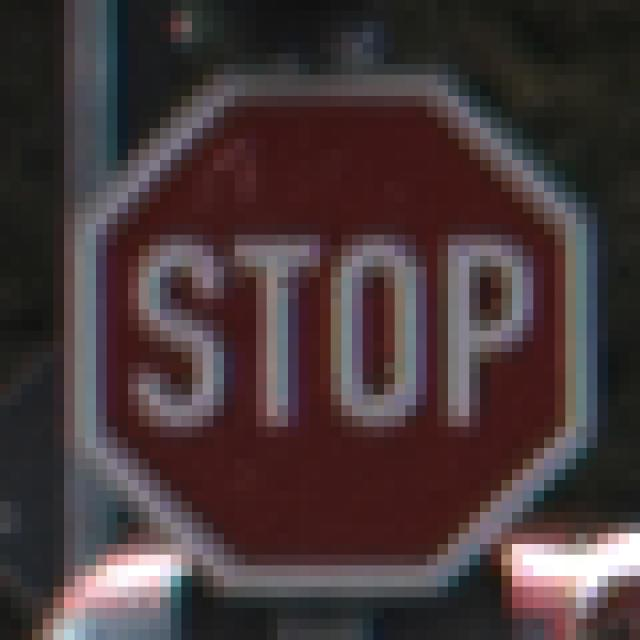STOP: (65, 65, 577, 577)
